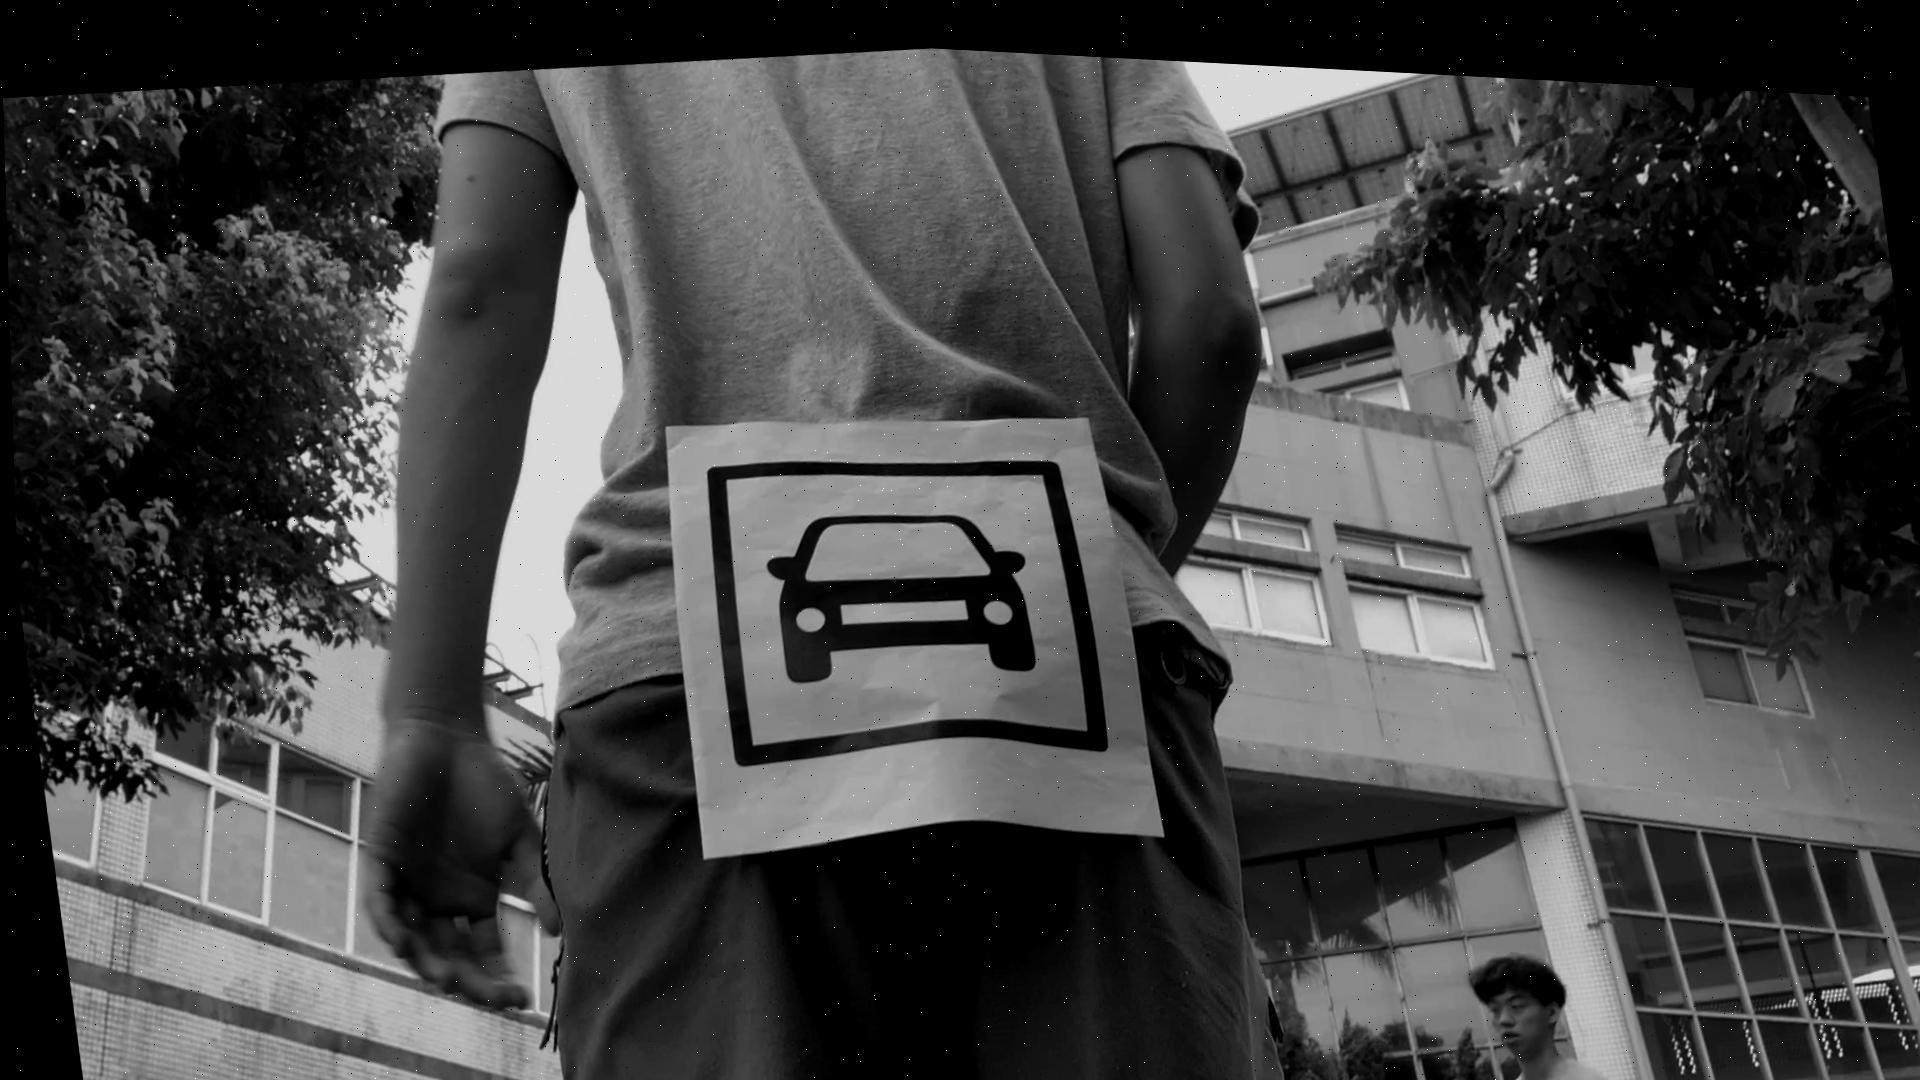car_img: (691, 418, 1109, 778)
